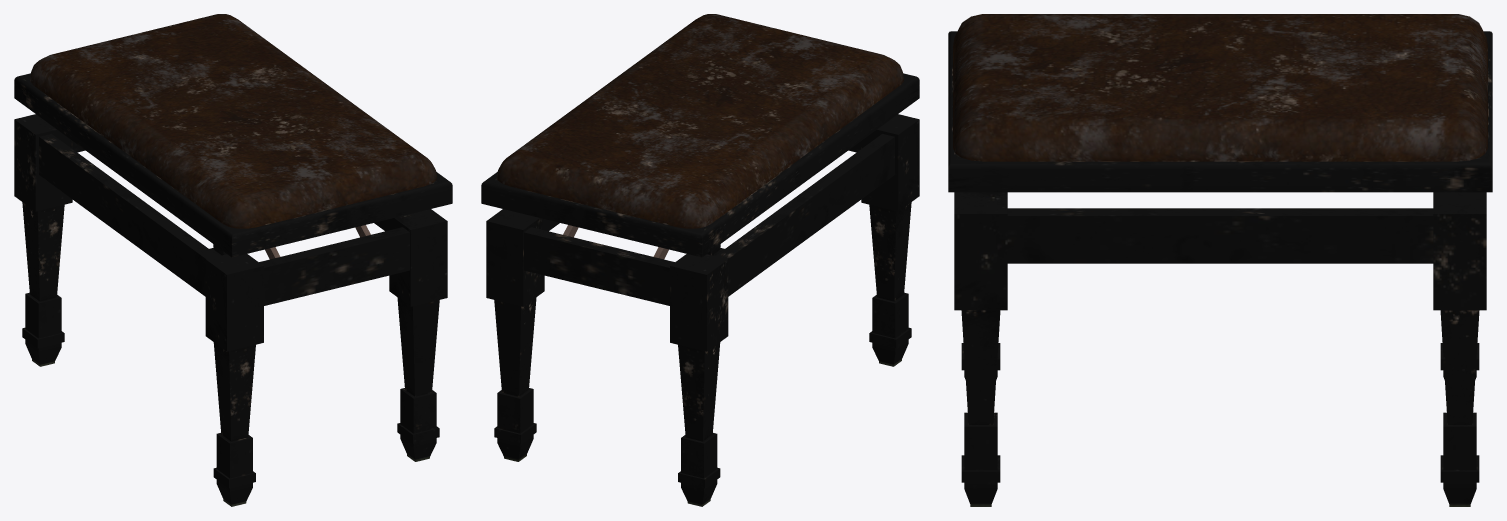
File: stool.fbx
3 renders of one model, left to right at view 1: azimuth 30°, elevation 25°; view 2: azimuth 150°, elevation 25°; view 3: azimuth 270°, elevation 25°, orthographic. The views are drawn at different scales.
Visible parts, largest first — view 1: Cussion.001, Feets.001, Cussion_frame.001; view 2: Cussion.001, Feets.001, Cussion_frame.001; view 3: Cussion.001, Feets.001, Cussion_frame.001.
Part boxes in pixels (box(x1,y1,x2,y2)): Cussion.001: box(30, 14, 436, 228); Feets.001: box(14, 114, 447, 506); Cussion_frame.001: box(14, 73, 452, 257); Cussion.001: box(497, 14, 903, 228); Feets.001: box(486, 114, 919, 506); Cussion_frame.001: box(481, 73, 919, 257); Cussion.001: box(953, 14, 1487, 161); Feets.001: box(954, 192, 1486, 506); Cussion_frame.001: box(948, 31, 1492, 192).
Bounding box in the file's own units: 47.25 × 61.41 × 79.74.
